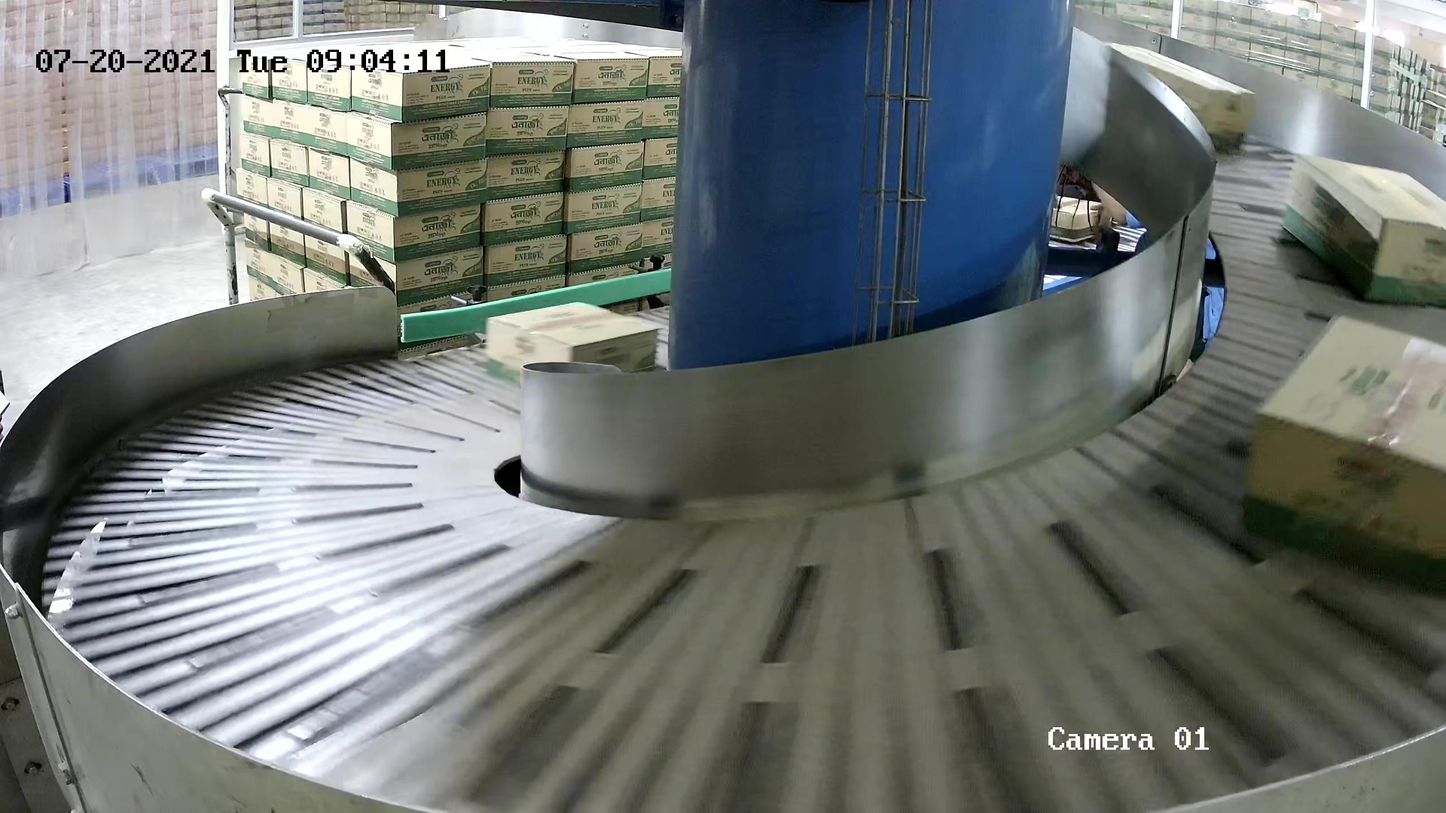Box: (1241, 309, 1446, 594), (1280, 148, 1446, 307), (483, 300, 664, 396), (1104, 41, 1257, 154)
